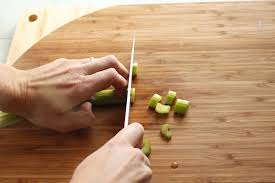knife: (122, 29, 136, 153)
